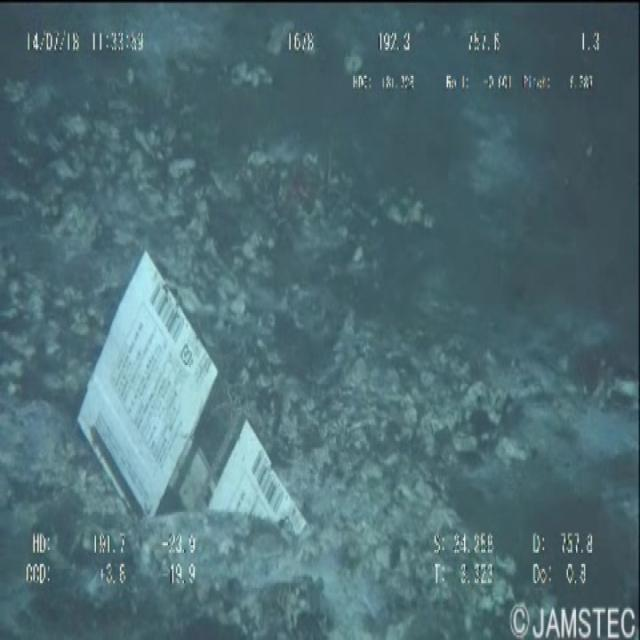Glass: (61, 230, 338, 571)
